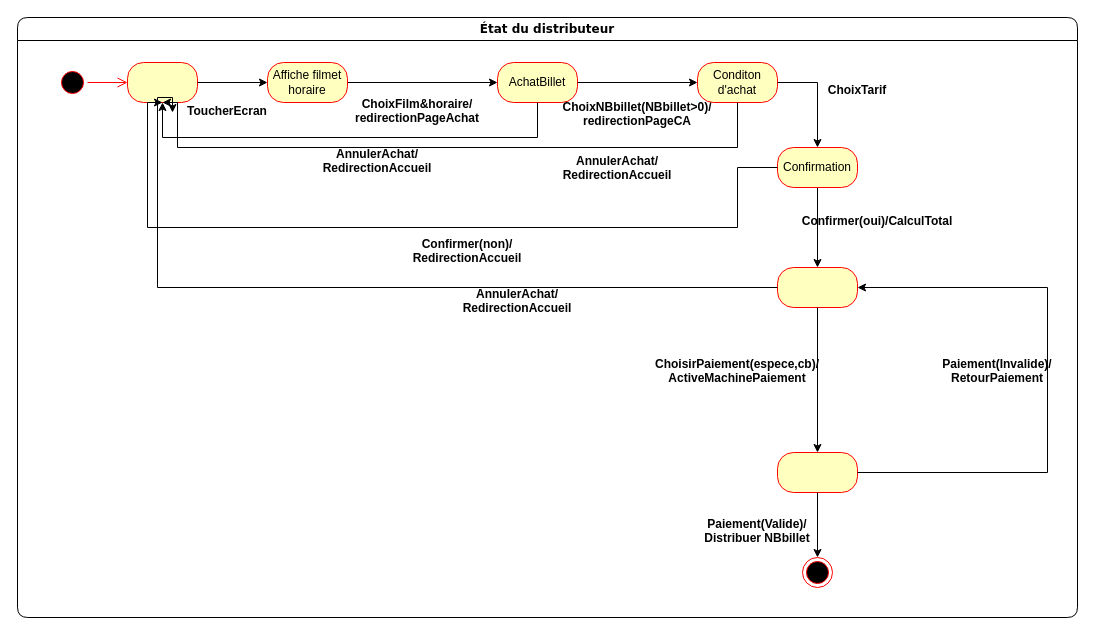
Image size: 1095x635. Some labels were removed from this diagram. The shapes that lost their labels are listed below. From the top down, each one's centre as x and y in pixels, then its label:
At (x=162, y=82): "Accueil".
At (x=817, y=287): "Paiement".
At (x=817, y=472): "Billet en distribution".
